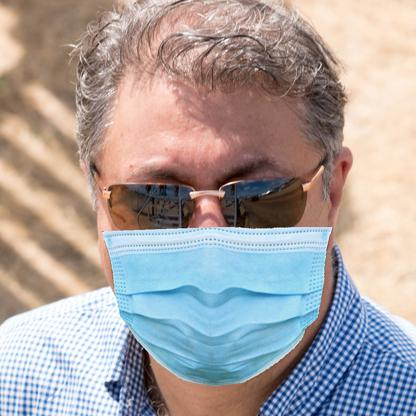mask: (99, 227, 330, 385)
